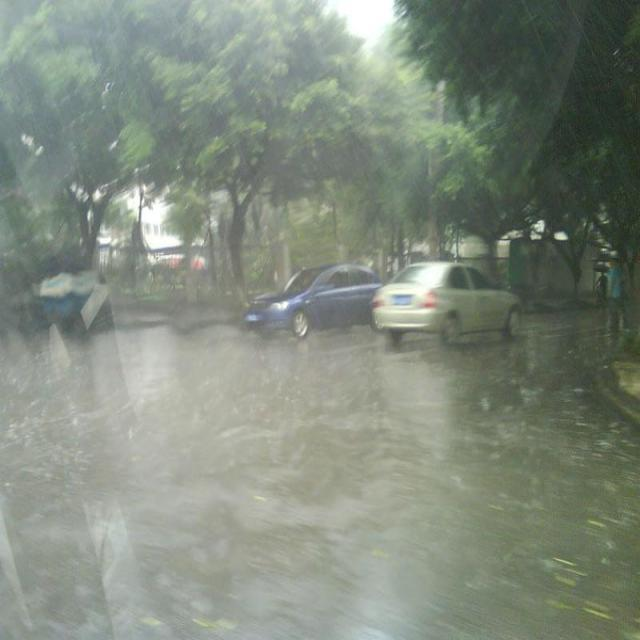car: (369, 259, 524, 338), (240, 260, 382, 334)
